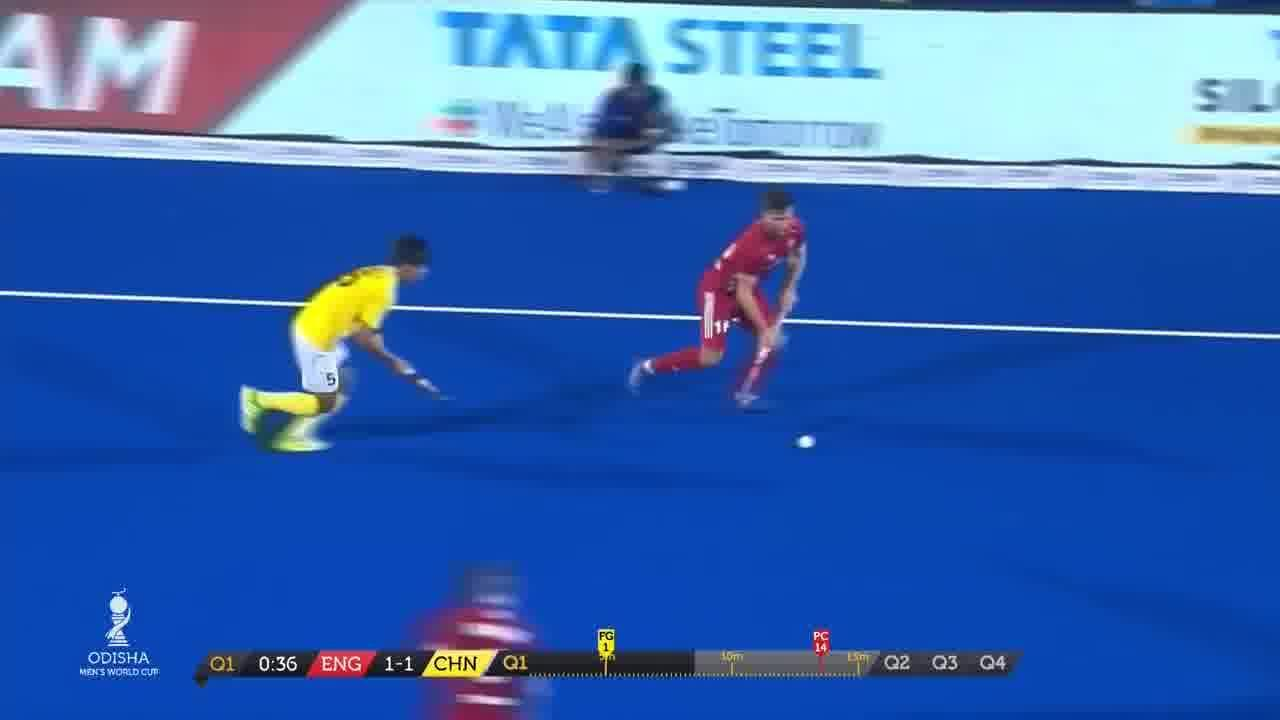ball: (790, 421, 824, 456)
